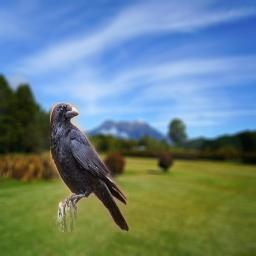Crow: (50, 102, 129, 232)
